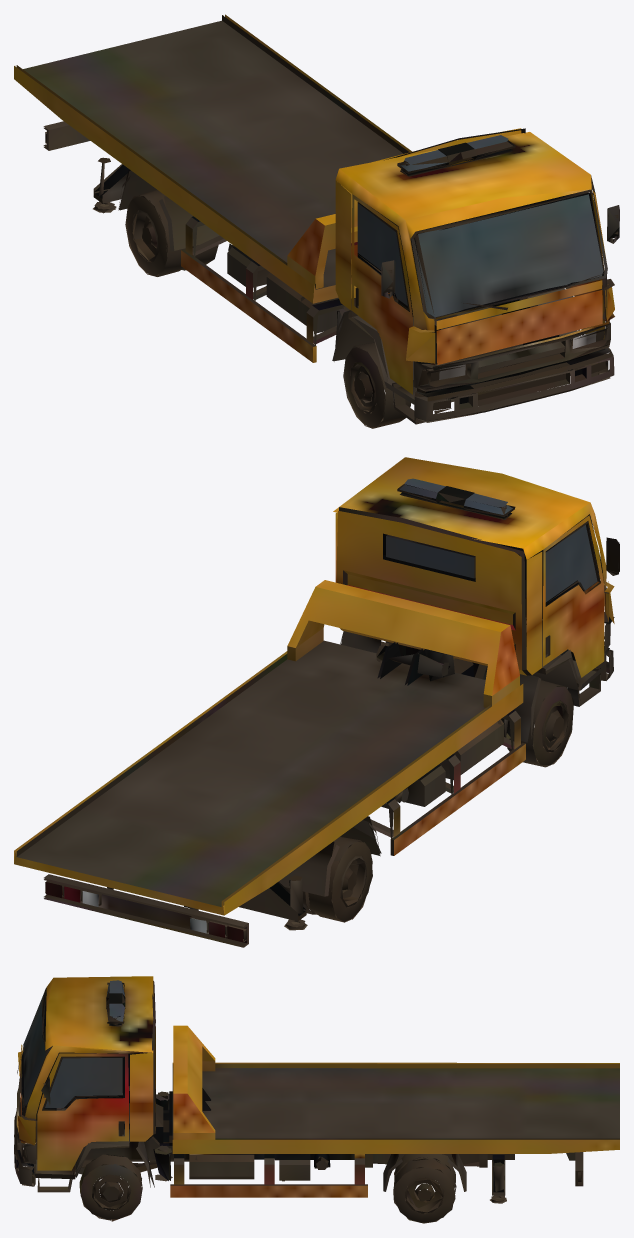
Rendered from pack-tow-truck-L2.glb.
The picture shows the model from 3 angles, top to bottom: view 1: azimuth 30°, elevation 25°; view 2: azimuth 150°, elevation 25°; view 3: azimuth 270°, elevation 25°; orthographic projection. The views are drawn at different scales.
Parts seen in each view (by area): view 1: body; view 2: body; view 3: body.
Boxes of the visible parts, bbox=[...] form: body: bbox=[14, 14, 619, 428]; body: bbox=[14, 457, 619, 947]; body: bbox=[14, 976, 619, 1223].
Bounding box in the file's own units: 2.37 × 2.39 × 6.94.
Materials: 1 (1 with a texture image).
